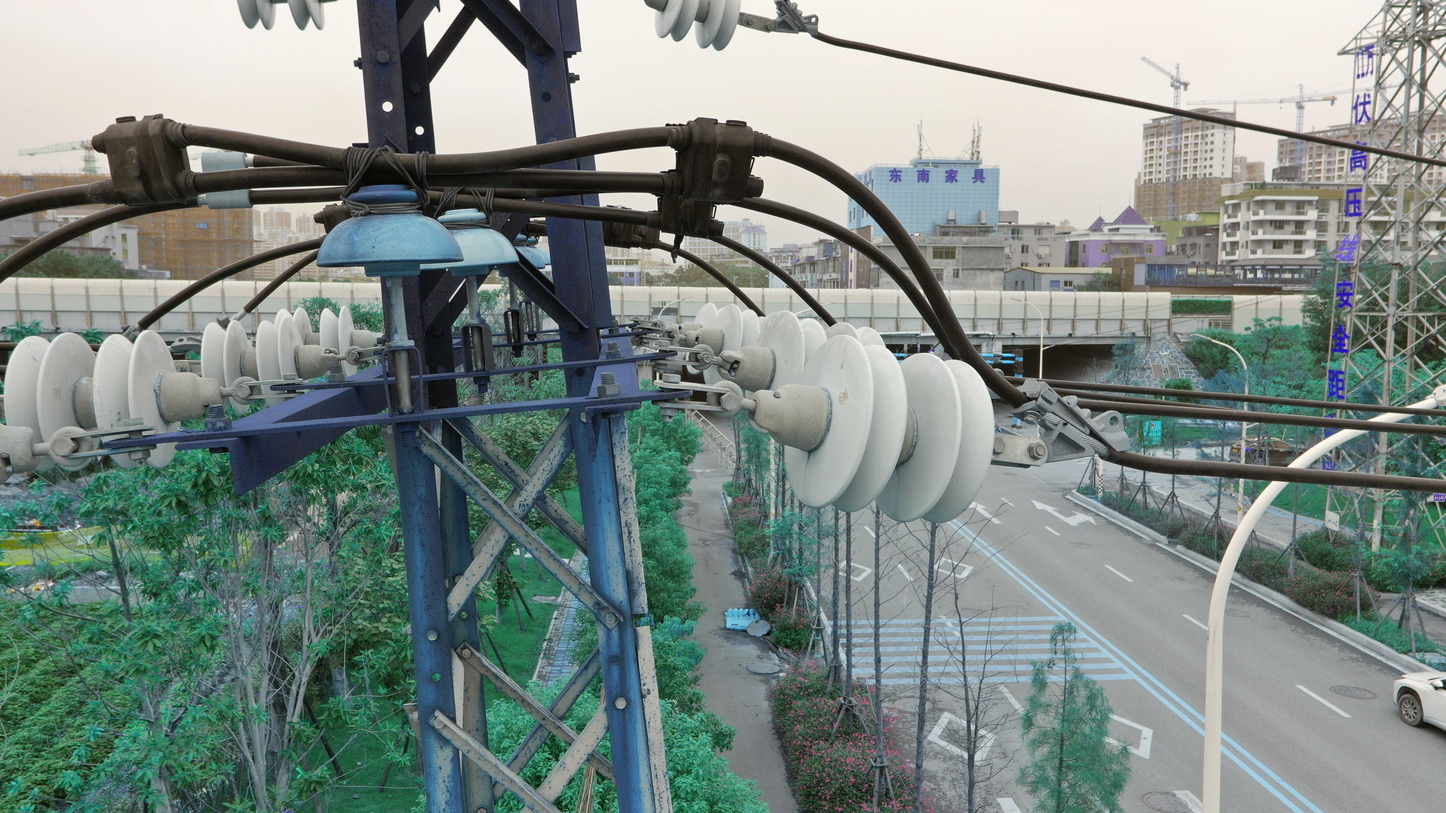severe_soiling_no_discharge_whole: (310, 180, 465, 281)
